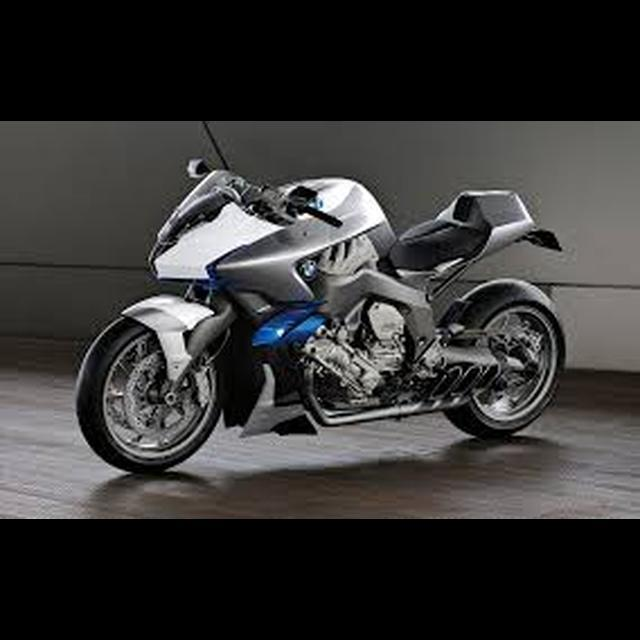motorcycle: (73, 123, 572, 480)
